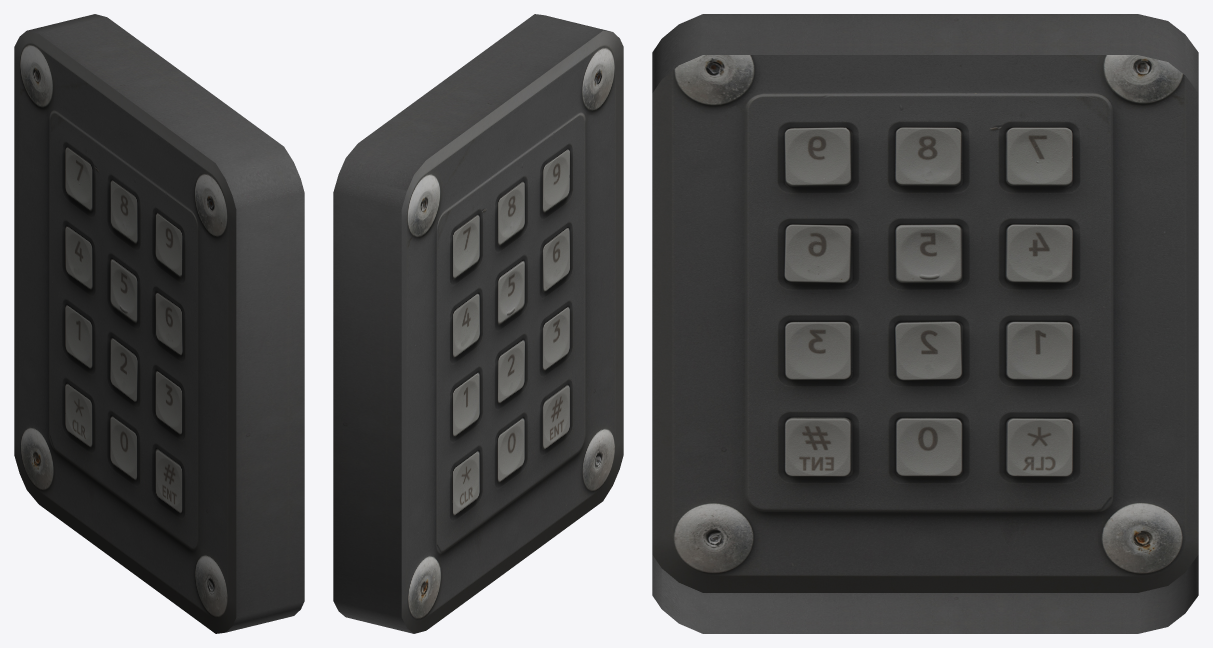
Rendered from KeyPad_Model.FBX.
The picture shows the model from 3 angles, left to right: view 1: azimuth 30°, elevation 25°; view 2: azimuth 150°, elevation 25°; view 3: azimuth 270°, elevation 25°; orthographic projection. The views are drawn at different scales.
Parts seen in each view (by area): view 1: Keypad001; view 2: Keypad001; view 3: Keypad001.
Boxes of the visible parts, bbox=[...] form: Keypad001: bbox=[14, 14, 304, 633]; Keypad001: bbox=[333, 14, 623, 633]; Keypad001: bbox=[652, 14, 1198, 633].
Bounding box in the file's own units: 0.0187 × 0.123 × 0.1051.
